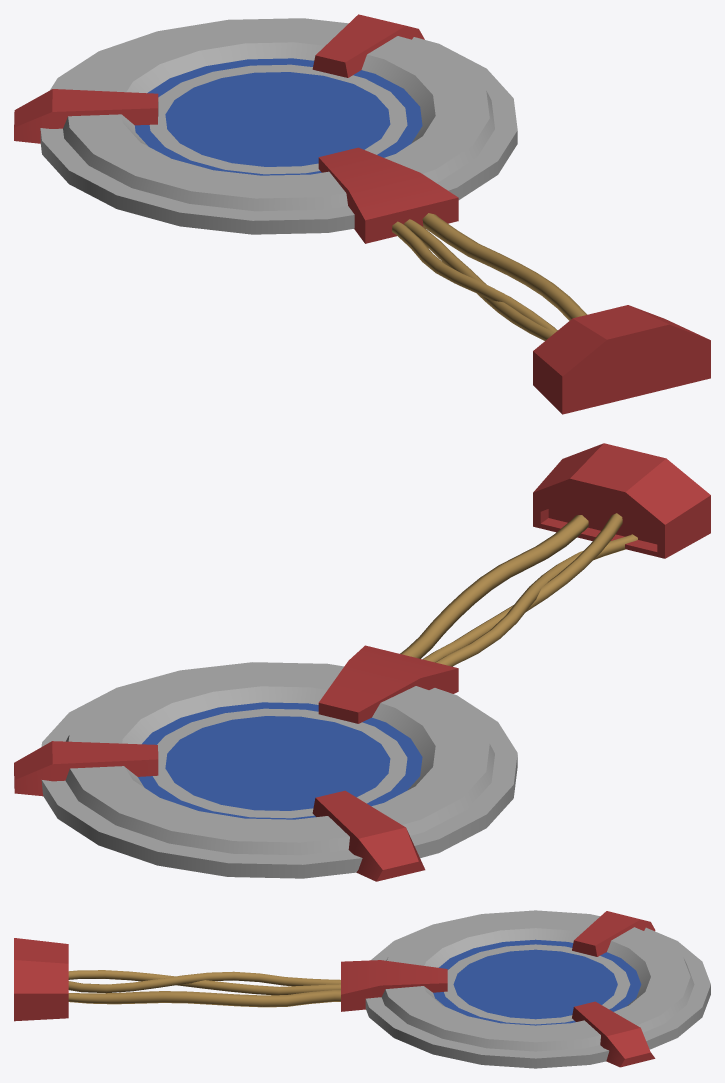
The model's file is SM_Spawn_Platform.fbx.
3 renders of one model, top to bottom at view 1: azimuth 30°, elevation 25°; view 2: azimuth 150°, elevation 25°; view 3: azimuth 270°, elevation 25°, orthographic. The views are drawn at different scales.
Visible parts, largest first — view 1: SM_Spawn_Platform; view 2: SM_Spawn_Platform; view 3: SM_Spawn_Platform.
Boxes of the visible parts, <box> form: SM_Spawn_Platform: <box>14,14,710,414</box>; SM_Spawn_Platform: <box>14,443,710,881</box>; SM_Spawn_Platform: <box>14,910,710,1068</box>.
Size of the model in its own units: 278 by 43.56 by 553.
